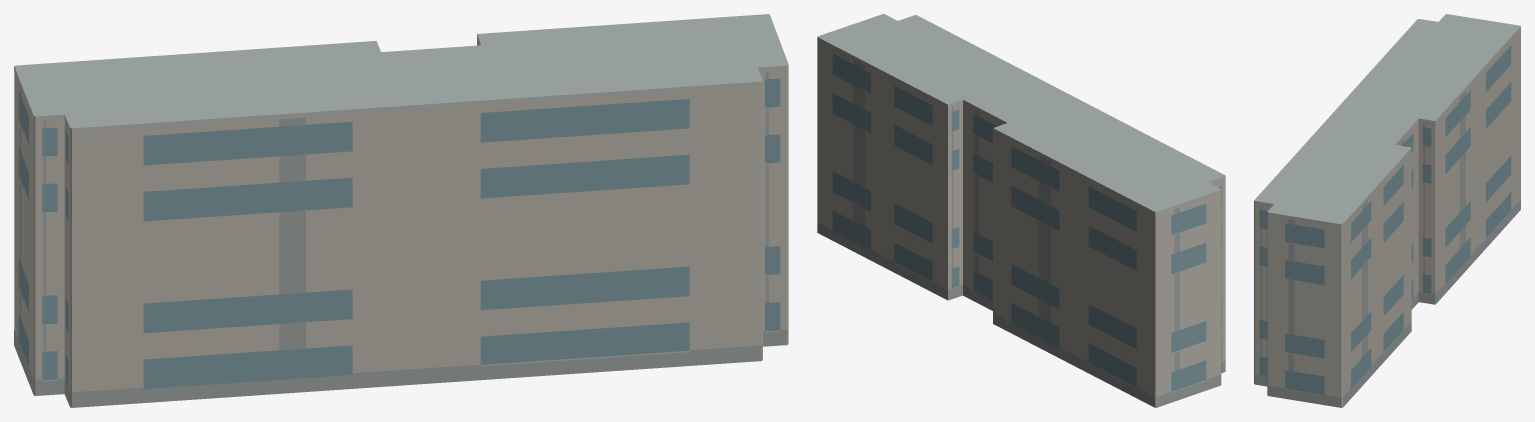
File: survey-upis-33025260.glb
3 renders of one model, left to right at view 1: azimuth 30°, elevation 25°; view 2: azimuth 150°, elevation 25°; view 3: azimuth 270°, elevation 25°, orthographic. The views are drawn at different scales.
Visible parts, largest first — view 1: survey-upis-33025260.tmp; view 2: survey-upis-33025260.tmp; view 3: survey-upis-33025260.tmp.
Boxes of the visible parts, box(x1,y1,x2,y2) form: survey-upis-33025260.tmp: box(14, 14, 788, 407); survey-upis-33025260.tmp: box(817, 14, 1225, 407); survey-upis-33025260.tmp: box(1254, 14, 1520, 407).
Size of the model in its own units: 33.42 by 13.6 by 17.91.
